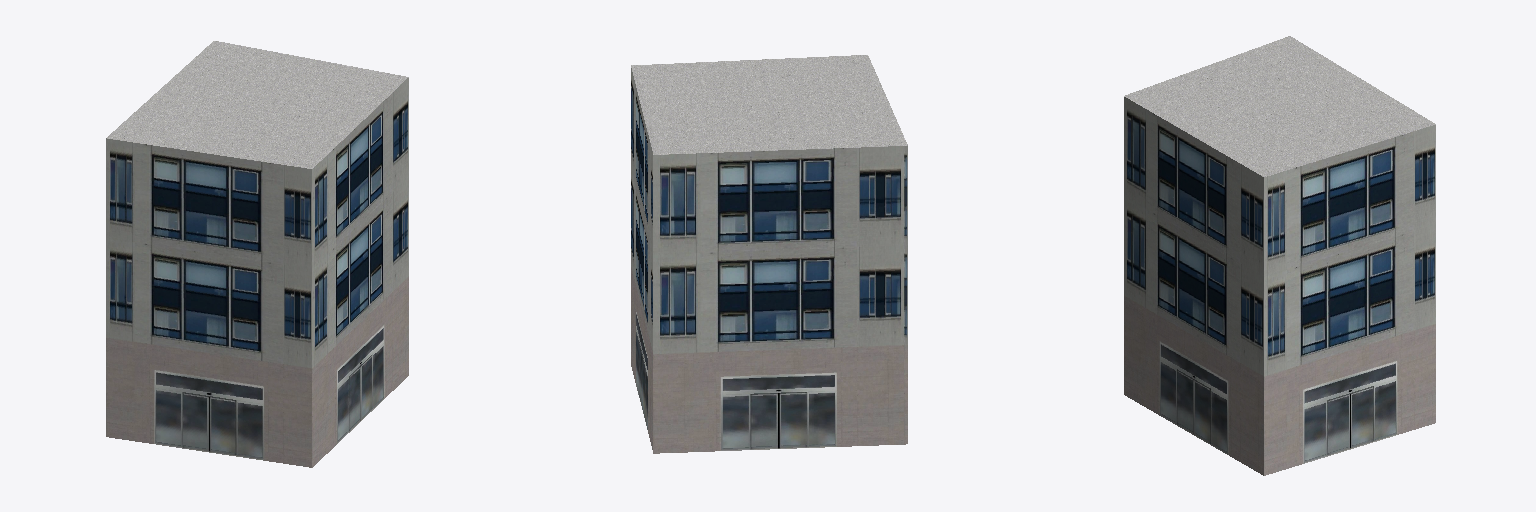
3 views of the same model, side by side, from view 1: azimuth 30°, elevation 25°; view 2: azimuth 150°, elevation 25°; view 3: azimuth 270°, elevation 25° (orthographic).
Parts seen in each view (by area): view 1: BuildingMaster_[number redacted]_0, BuildingMaster_[number redacted]_1; view 2: BuildingMaster_[number redacted]_0, BuildingMaster_[number redacted]_1; view 3: BuildingMaster_[number redacted]_0, BuildingMaster_[number redacted]_1.
Part boxes in pixels (bbox=[...]): BuildingMaster_[number redacted]_0: bbox=[106, 78, 408, 467]; BuildingMaster_[number redacted]_1: bbox=[107, 41, 408, 168]; BuildingMaster_[number redacted]_0: bbox=[631, 68, 907, 453]; BuildingMaster_[number redacted]_1: bbox=[631, 55, 907, 154]; BuildingMaster_[number redacted]_0: bbox=[1124, 97, 1435, 475]; BuildingMaster_[number redacted]_1: bbox=[1124, 36, 1435, 176].
Bounding box in the file's own units: 10.68 × 10.5 × 9.97.
2 materials, 2 textured.